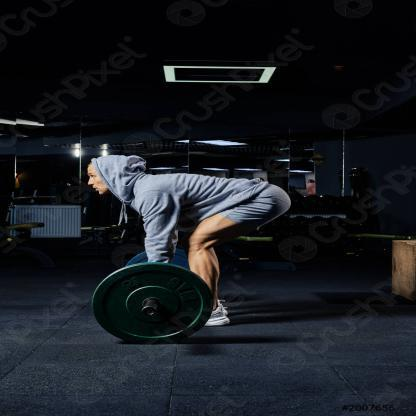barbell: (91, 262, 216, 346)
